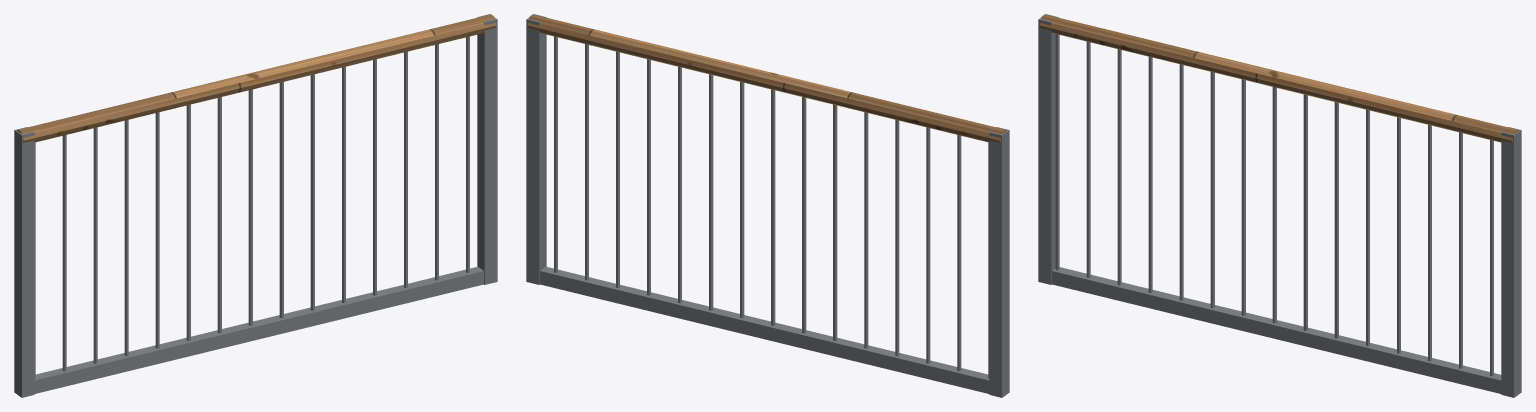
Rendered from hall_rail.glb.
3 views of the same model, side by side, from view 1: azimuth 30°, elevation 25°; view 2: azimuth 150°, elevation 25°; view 3: azimuth 330°, elevation 25° (orthographic).
Visible parts, largest first — view 1: hall_rail_steel_d, hall_rail_wood; view 2: hall_rail_steel_d, hall_rail_wood; view 3: hall_rail_steel_d, hall_rail_wood.
Boxes of the visible parts, box(x1,y1,x2,y2) form: hall_rail_steel_d: box(14, 14, 497, 397); hall_rail_wood: box(17, 14, 496, 142); hall_rail_steel_d: box(526, 14, 1009, 397); hall_rail_wood: box(527, 14, 1006, 142); hall_rail_steel_d: box(1038, 14, 1521, 397); hall_rail_wood: box(1039, 14, 1518, 142).
Bounding box in the file's own units: 1.84 × 0.9766 × 0.056.
2 materials, 1 textured.
